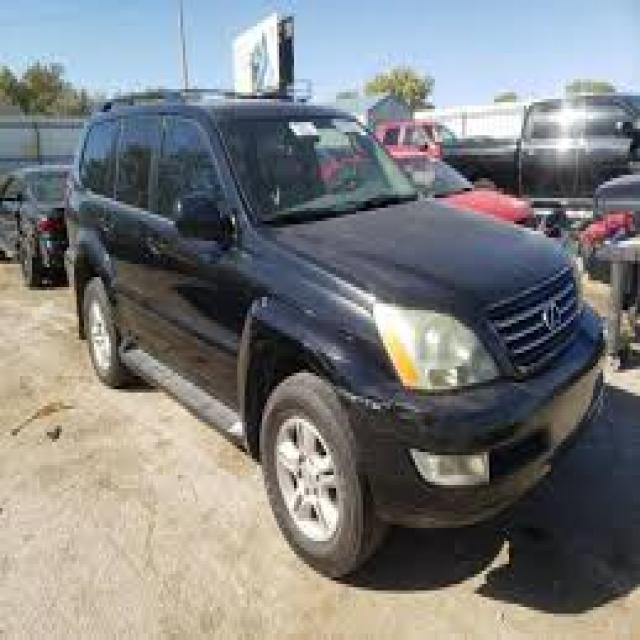minor: (337, 371, 454, 446)
